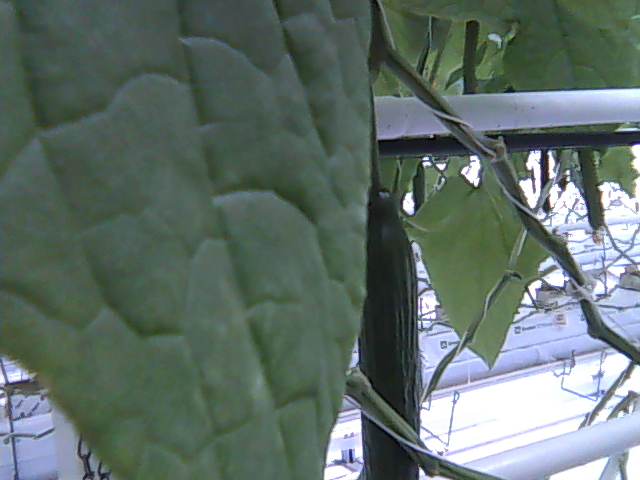concombre: (357, 183, 426, 480)
